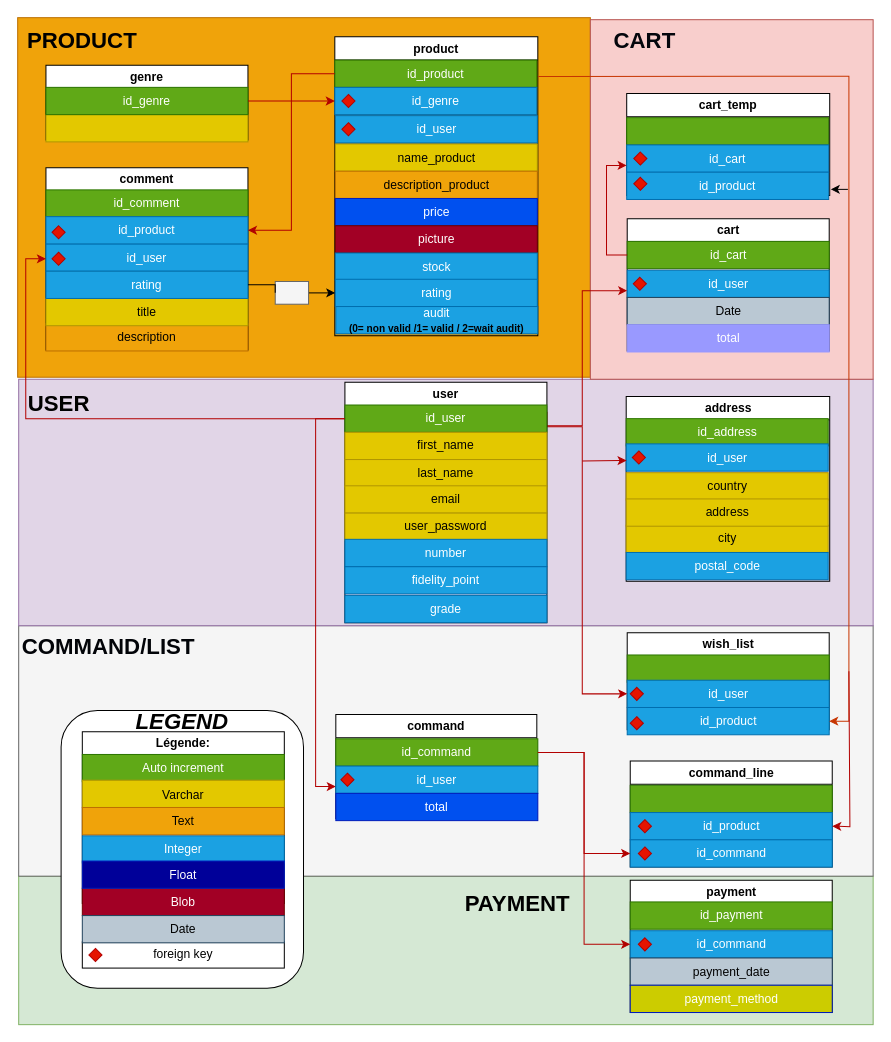
The diagram is 891 pixels wide and 1042 high, and some of its shapes have lost their labels. Each missing label, with the centre of its shape:
(total): the point at 291,292
id_cart_temp: the point at 727,131
id_command_line: the point at 730,798
id_wl: the point at 727,668
name: the point at 146,128
